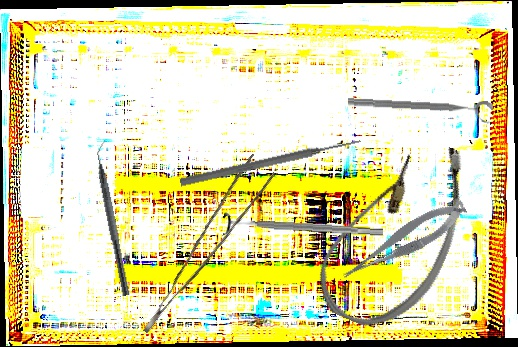Cannula: (305, 118, 487, 346)
Chopper: (89, 139, 141, 297)
Fixation Ring: (222, 210, 384, 246), (347, 94, 494, 125)
Micro Scissor: (333, 196, 474, 284)
Pusher: (179, 135, 362, 189)
Tissue Forceps: (115, 153, 285, 334)
